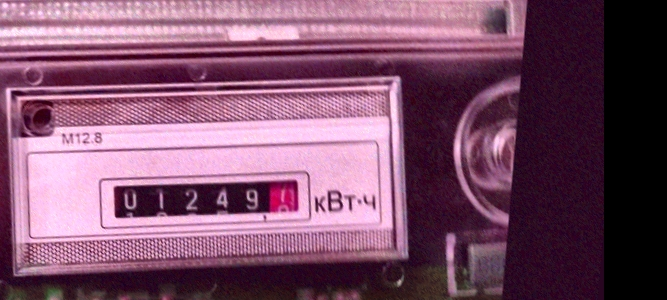0: (118, 183, 139, 211)
1: (150, 185, 167, 211)
2: (180, 185, 202, 213)
4: (212, 182, 233, 211)
7: (273, 179, 290, 204)
9: (241, 185, 261, 211)
screen: (88, 156, 327, 250)
